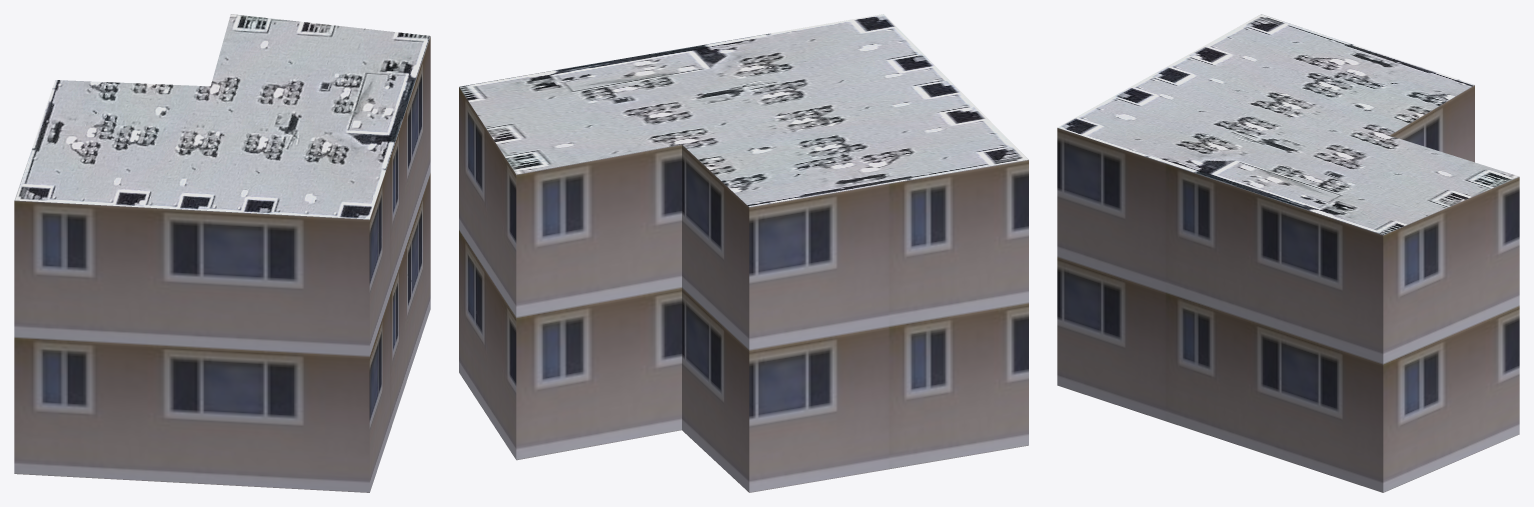
File: ResTex__3202.fbx
The picture shows the model from 3 angles, left to right: view 1: azimuth 30°, elevation 25°; view 2: azimuth 150°, elevation 25°; view 3: azimuth 270°, elevation 25°; orthographic projection. The views are drawn at different scales.
Visible parts, largest first — view 1: CityEngineMaterial_21_m, CityEngineMaterial_4_m; view 2: CityEngineMaterial_21_m, CityEngineMaterial_4_m; view 3: CityEngineMaterial_21_m, CityEngineMaterial_4_m.
Part boxes in pixels (x1=…): CityEngineMaterial_21_m: x1=14, y1=36, x2=430, y2=492; CityEngineMaterial_4_m: x1=14, y1=14, x2=430, y2=219; CityEngineMaterial_21_m: x1=459, y1=87, x2=1028, y2=492; CityEngineMaterial_4_m: x1=459, y1=14, x2=1028, y2=206; CityEngineMaterial_21_m: x1=1057, y1=85, x2=1519, y2=492; CityEngineMaterial_4_m: x1=1057, y1=14, x2=1519, y2=234.
Bounding box in the file's own units: 11.04 × 6 × 9.76.
Materials: 2 (2 with a texture image).
